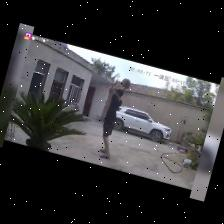person: (100, 83, 123, 159)
